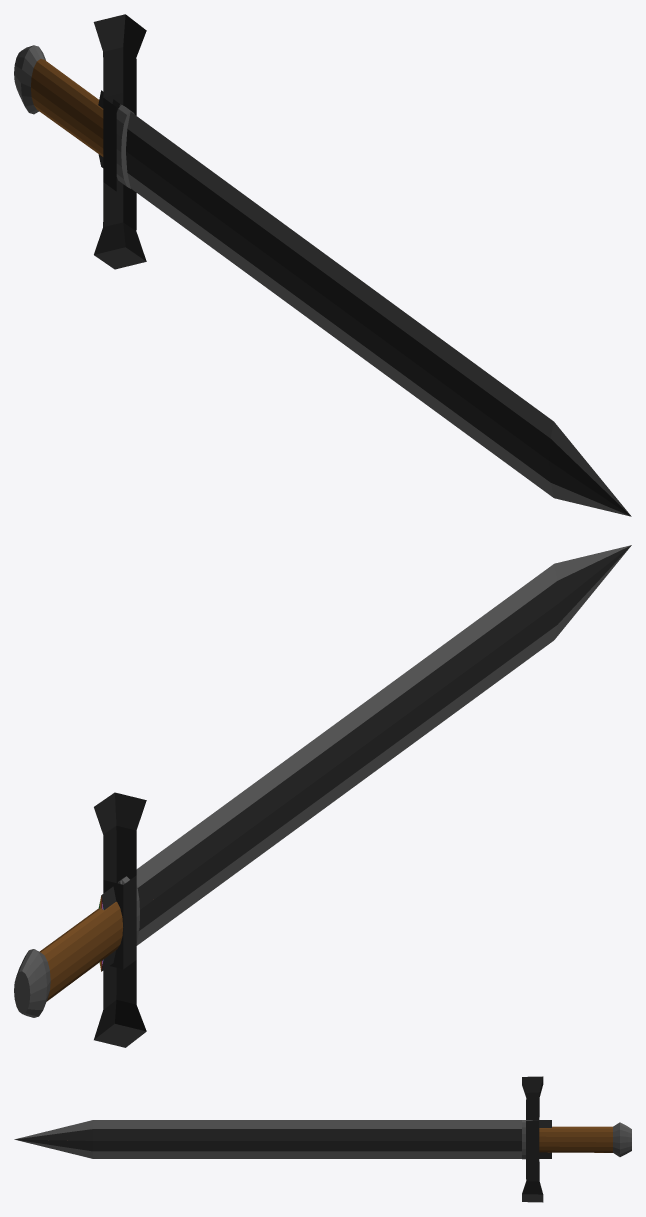
Rendered from Sword.fbx.
The picture shows the model from 3 angles, top to bottom: view 1: azimuth 30°, elevation 25°; view 2: azimuth 150°, elevation 25°; view 3: azimuth 270°, elevation 25°; orthographic projection. The views are drawn at different scales.
Visible parts, largest first — view 1: Plane, Cube.001, Circle; view 2: Plane, Cube.001, Circle; view 3: Plane, Circle, Cube.001.
Boxes of the visible parts, x1=… form: Plane: x1=98, y1=90, x2=631, y2=516; Cube.001: x1=93, y1=14, x2=146, y2=269; Circle: x1=14, y1=45, x2=134, y2=188; Plane: x1=98, y1=545, x2=631, y2=971; Cube.001: x1=94, y1=792, x2=146, y2=1047; Circle: x1=14, y1=876, x2=139, y2=1017; Plane: x1=14, y1=1120, x2=551, y2=1158; Circle: x1=522, y1=1120, x2=631, y2=1159; Cube.001: x1=522, y1=1076, x2=543, y2=1202.
Bounding box in the file's own units: 3.08 × 21.48 × 102.
